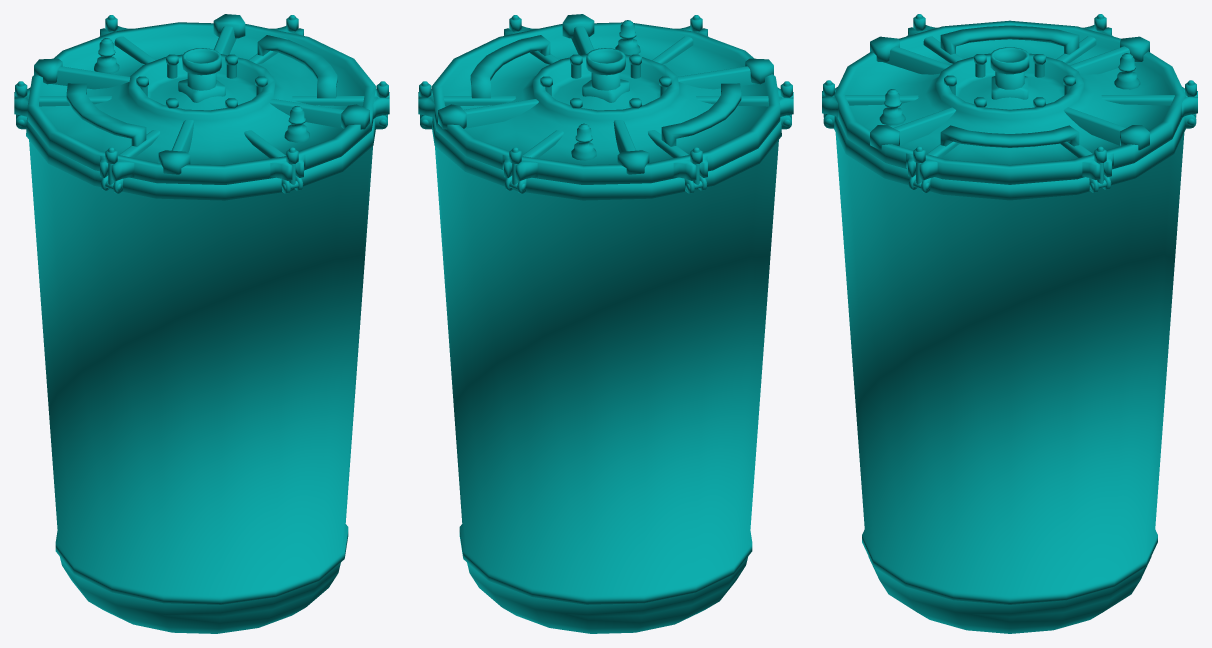
Rendered from Cargo_EDW.fbx.
3 renders of one model, left to right at view 1: azimuth 30°, elevation 25°; view 2: azimuth 150°, elevation 25°; view 3: azimuth 270°, elevation 25°, orthographic.
Visible parts, largest first — view 1: Cargo_EDW.001, Cargo_EDW; view 2: Cargo_EDW.001, Cargo_EDW; view 3: Cargo_EDW.001, Cargo_EDW.
Part boxes in pixels (x1,y1,x2,y2): Cargo_EDW.001: (16, 114, 387, 633); Cargo_EDW: (14, 14, 389, 184); Cargo_EDW.001: (420, 114, 791, 633); Cargo_EDW: (418, 14, 793, 184); Cargo_EDW.001: (823, 113, 1196, 633); Cargo_EDW: (822, 20, 1197, 184).
Bounding box in the file's own units: 315 × 560 × 333.
